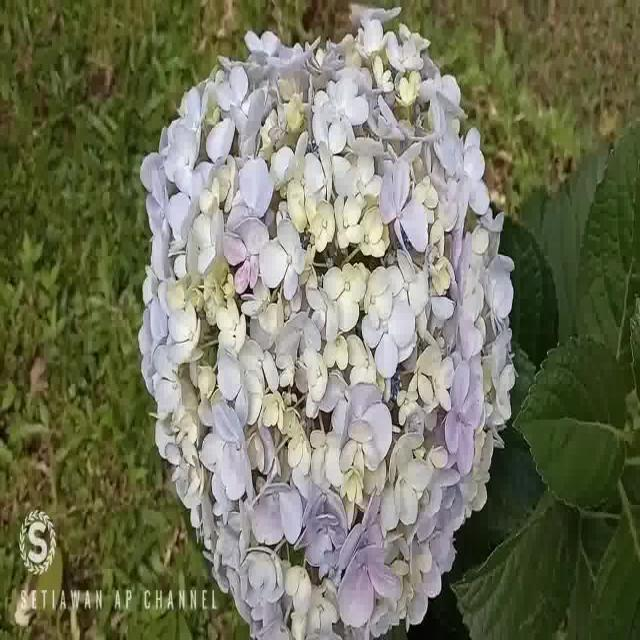Flower: (139, 21, 522, 640)
